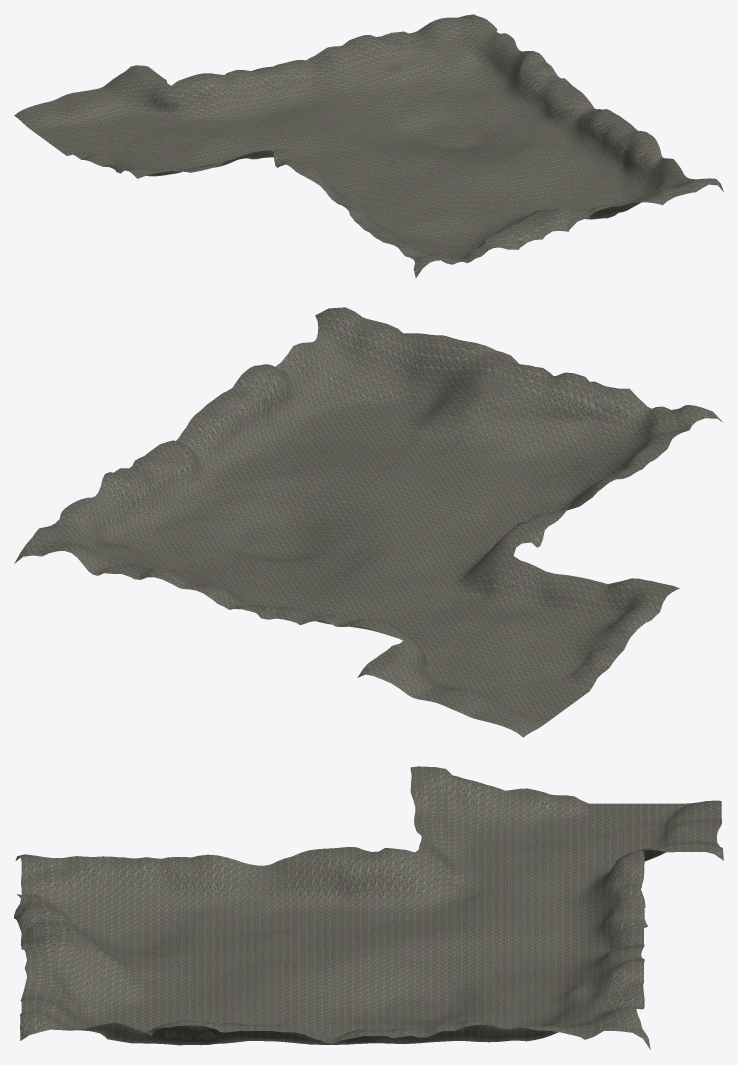
The model's file is landscape_forest.dae.
3 views of the same model, one above another, from view 1: azimuth 30°, elevation 25°; view 2: azimuth 150°, elevation 25°; view 3: azimuth 270°, elevation 25° (orthographic). The views are drawn at different scales.
Parts seen in each view (by area): view 1: pPlane1; view 2: pPlane1; view 3: pPlane1.
Boxes of the visible parts, x1=… form: pPlane1: x1=14, y1=14, x2=723, y2=277; pPlane1: x1=14, y1=307, x2=722, y2=737; pPlane1: x1=14, y1=766, x2=723, y2=1049.
Bounding box in the file's own units: 163 × 15.76 × 183.
